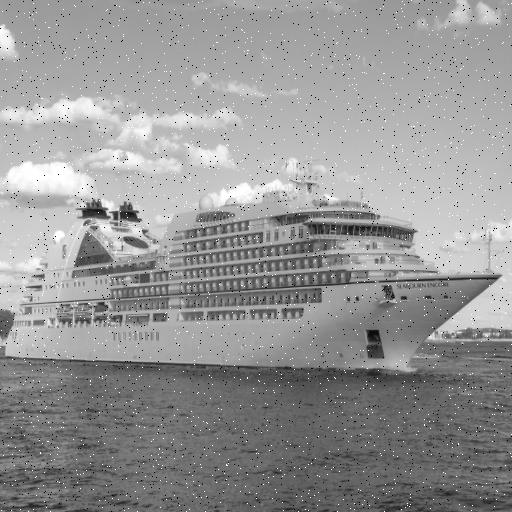cruises: (1, 158, 507, 388)
